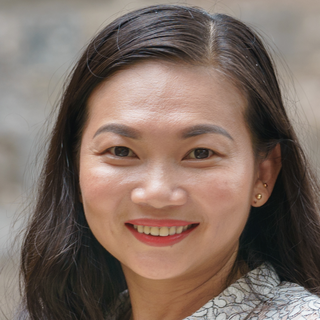eye: (177, 141, 226, 166), (97, 141, 143, 165)
